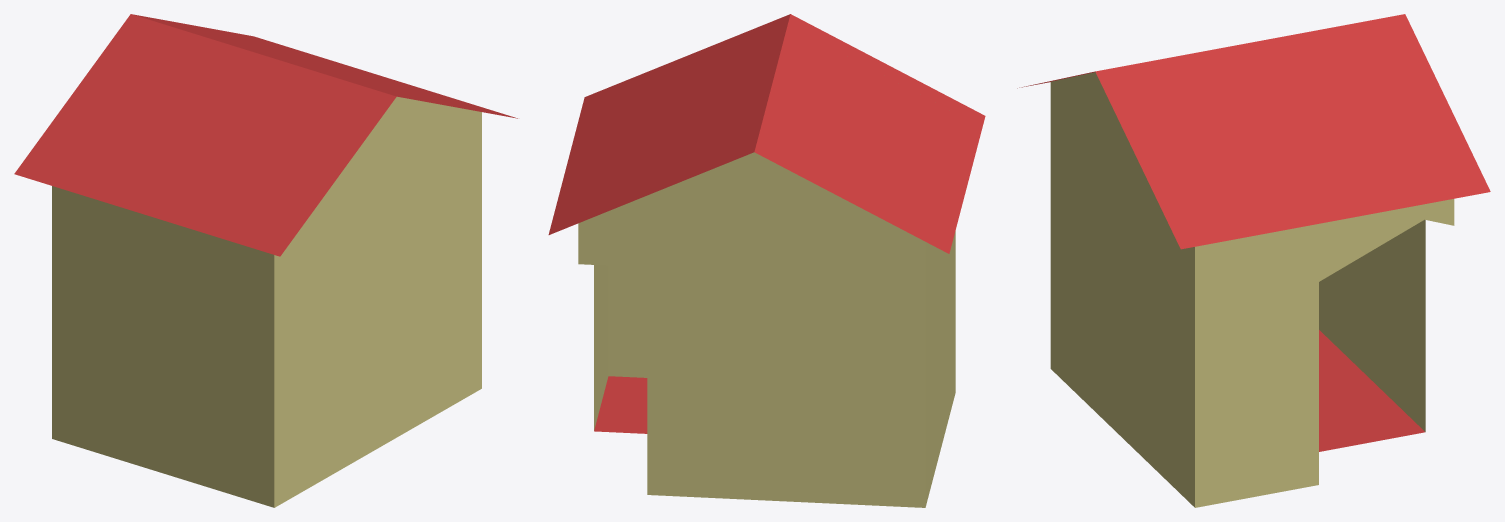
3 renders of one model, left to right at view 1: azimuth 30°, elevation 25°; view 2: azimuth 150°, elevation 25°; view 3: azimuth 270°, elevation 25°, orthographic. The views are drawn at different scales.
Bounding box in the file's own units: 13.93 × 12.87 × 11.01.
